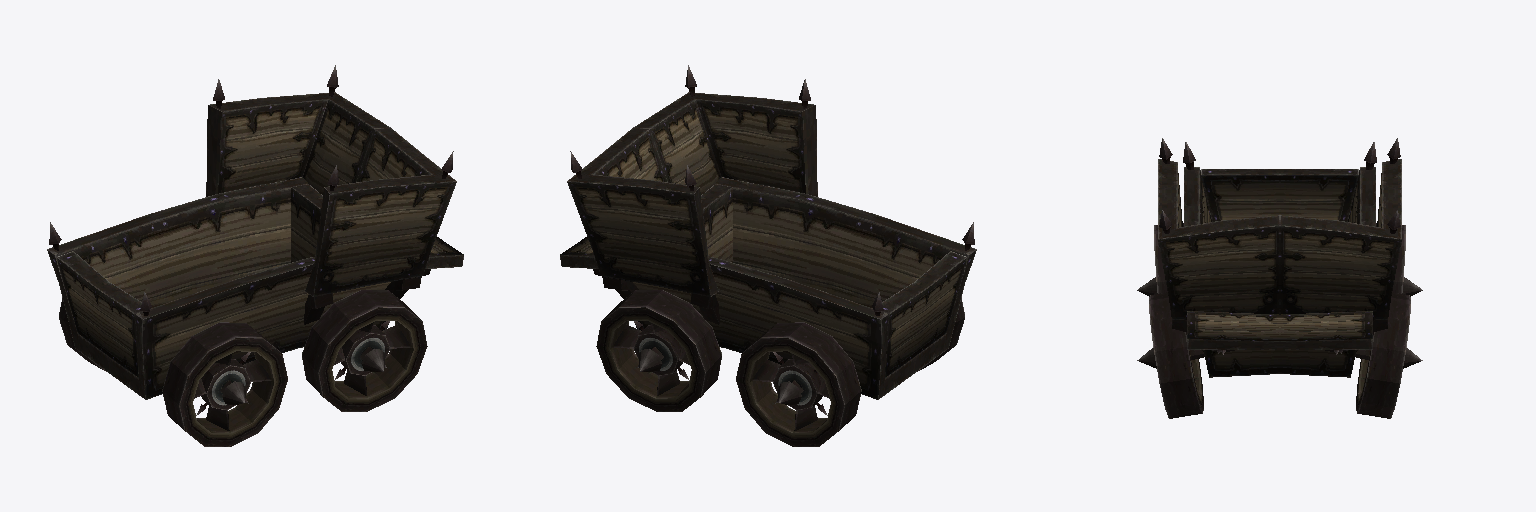
3 renders of one model, left to right at view 1: azimuth 30°, elevation 25°; view 2: azimuth 150°, elevation 25°; view 3: azimuth 270°, elevation 25°, orthographic.
Visible parts, largest first — view 1: fk_wagon01; view 2: fk_wagon01; view 3: fk_wagon01.
Part boxes in pixels (left/top/right/bottom): fk_wagon01: left=47, top=65, right=463, bottom=446; fk_wagon01: left=560, top=65, right=976, bottom=446; fk_wagon01: left=1137, top=138, right=1422, bottom=418.
Size of the model in its own units: 5.33 by 4.08 by 4.09.
1 materials, 1 textured.